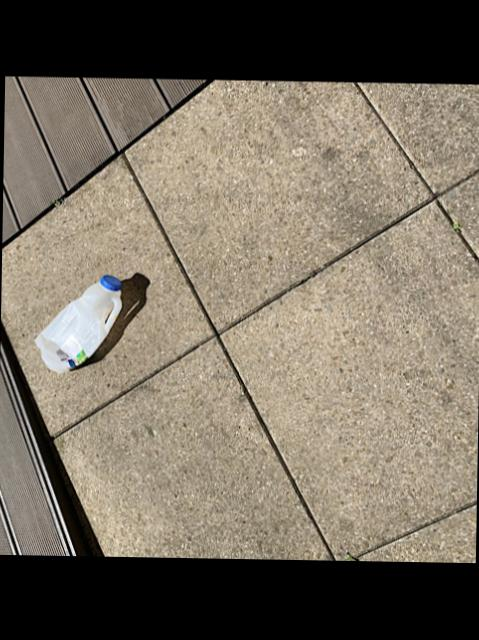plastic: (32, 277, 118, 373)
